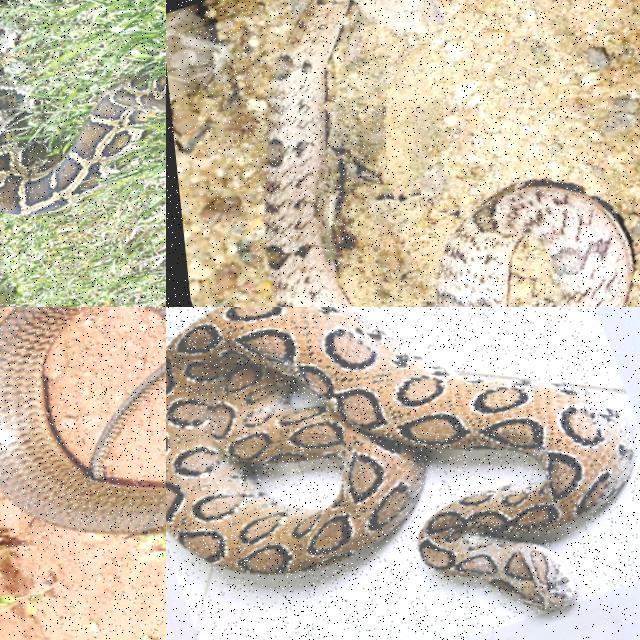Calloselasma rhodostoma: (265, 0, 350, 306)
Daboia siamensis: (166, 307, 633, 610)
Naja kaouthia: (0, 307, 165, 533)
Python bivittatus: (0, 23, 165, 214)
snake: (166, 307, 633, 610), (0, 307, 165, 533), (0, 23, 165, 214), (265, 0, 350, 306)
